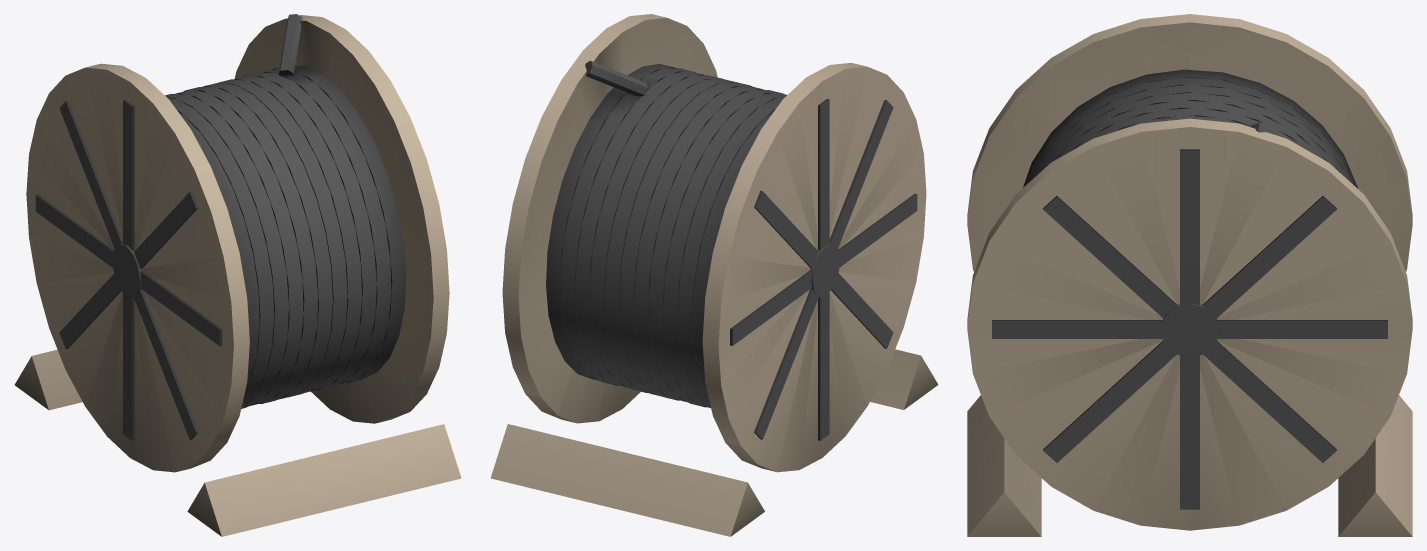
File: fun_rope_reel.glb
The picture shows the model from 3 angles, left to right: view 1: azimuth 30°, elevation 25°; view 2: azimuth 150°, elevation 25°; view 3: azimuth 270°, elevation 25°; orthographic projection. The views are drawn at different scales.
Parts seen in each view (by area): view 1: static; view 2: static; view 3: static.
Boxes of the visible parts, <box> form: static: <box>14,14,461,536</box>; static: <box>490,14,938,536</box>; static: <box>967,14,1412,536</box>.
Bounding box in the file's own units: 1.2 × 1.8 × 1.8.
